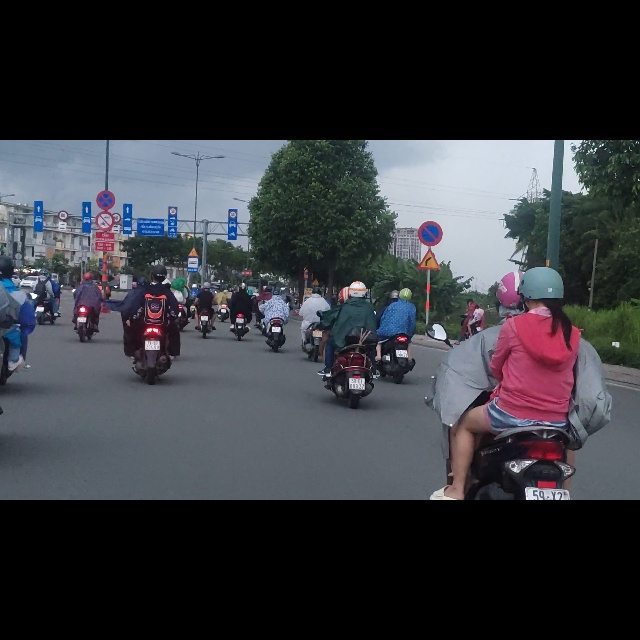bien_nguy_hiem: (417, 143, 443, 190), (416, 191, 440, 231), (95, 125, 114, 161), (96, 89, 115, 124), (187, 209, 199, 235), (187, 190, 200, 209), (58, 125, 68, 143), (229, 124, 237, 139), (169, 120, 177, 134)
